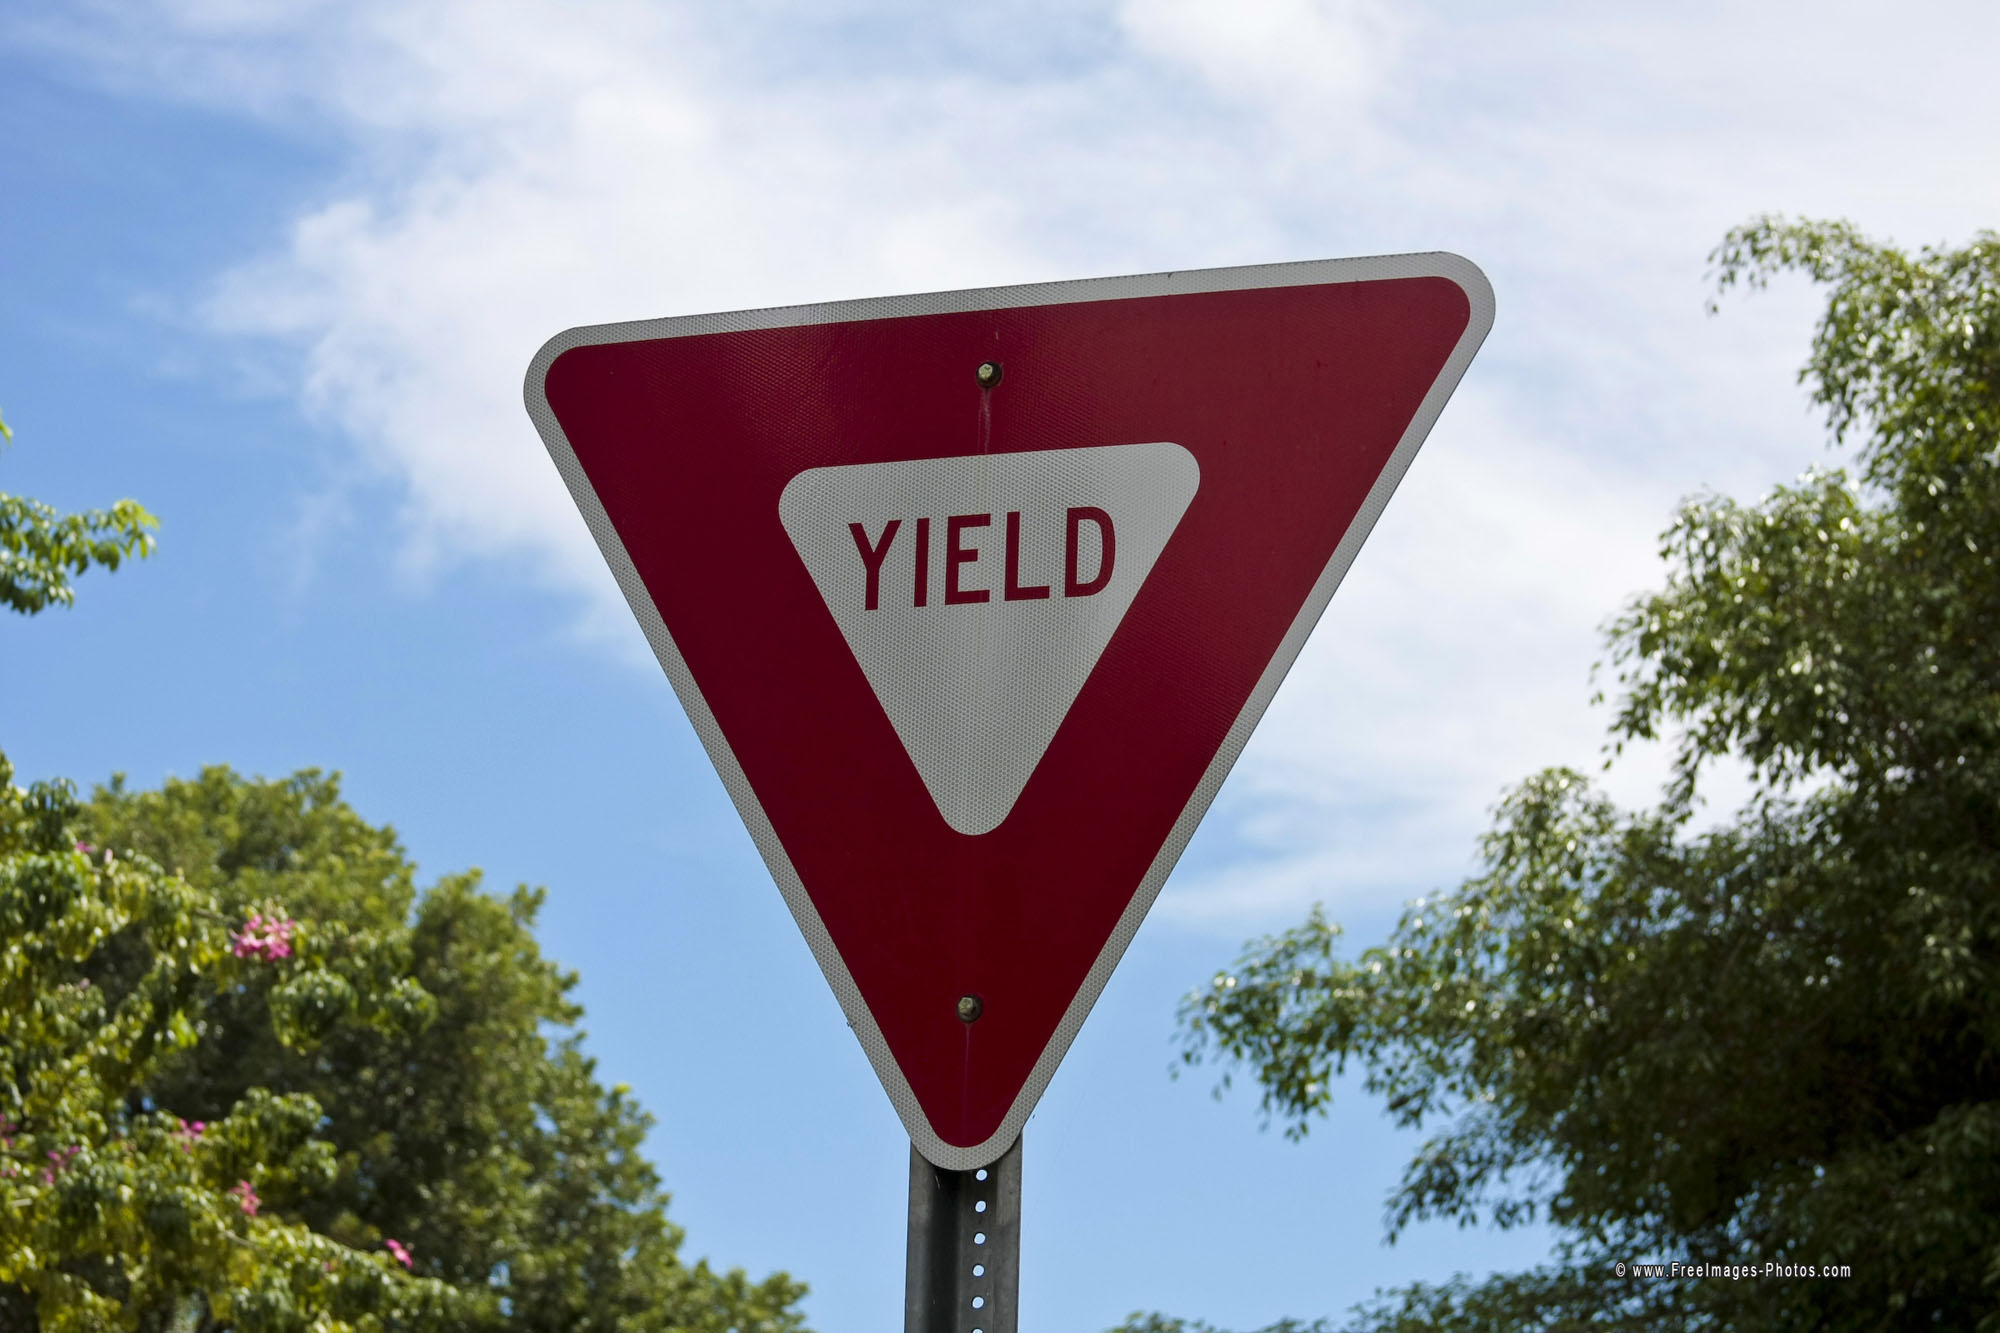yield_sign: (520, 251, 1484, 1172)
